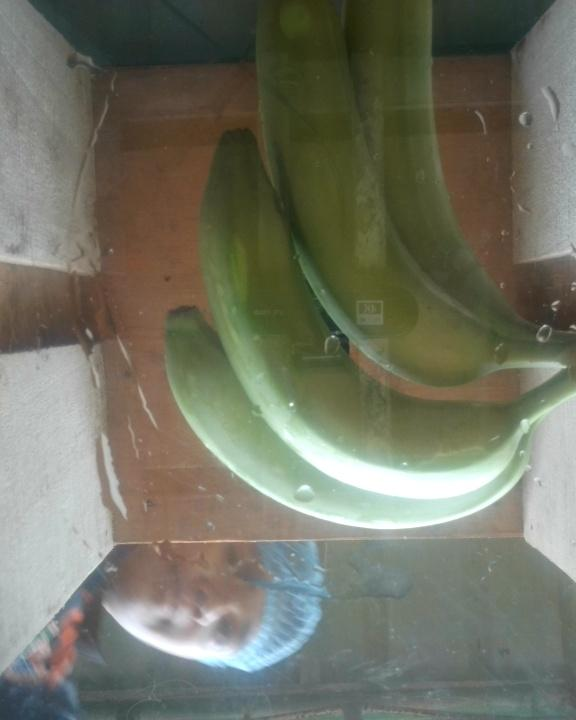SPOT: (151, 2, 576, 538)
